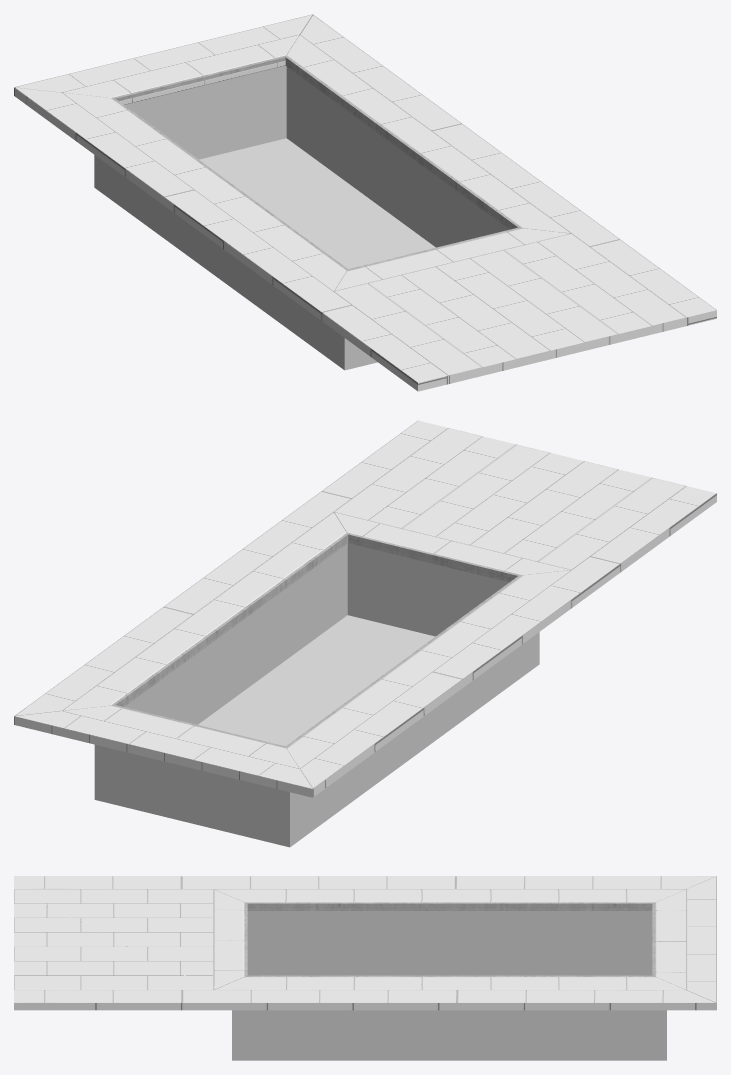
The model's file is realpool.glb.
The picture shows the model from 3 angles, top to bottom: view 1: azimuth 30°, elevation 25°; view 2: azimuth 150°, elevation 25°; view 3: azimuth 270°, elevation 25°; orthographic projection. The views are drawn at different scales.
Visible parts, largest first — view 1: floor07, foil01, floor12; view 2: floor07, foil01, floor12; view 3: floor07, foil01, floor12.
Boxes of the visible parts, x1=… form: floor07: x1=14, y1=14, x2=716, y2=391; foil01: x1=94, y1=66, x2=508, y2=370; floor12: x1=111, y1=55, x2=522, y2=270; floor07: x1=14, y1=420, x2=716, y2=797; foil01: x1=94, y1=543, x2=539, y2=847; floor12: x1=111, y1=532, x2=522, y2=748; floor07: x1=14, y1=876, x2=716, y2=1010; foil01: x1=232, y1=911, x2=666, y2=1060; floor12: x1=244, y1=902, x2=655, y2=976.
Size of the model in its own units: 7.59 by 2.23 by 17.76.
16 materials, 13 textured.
